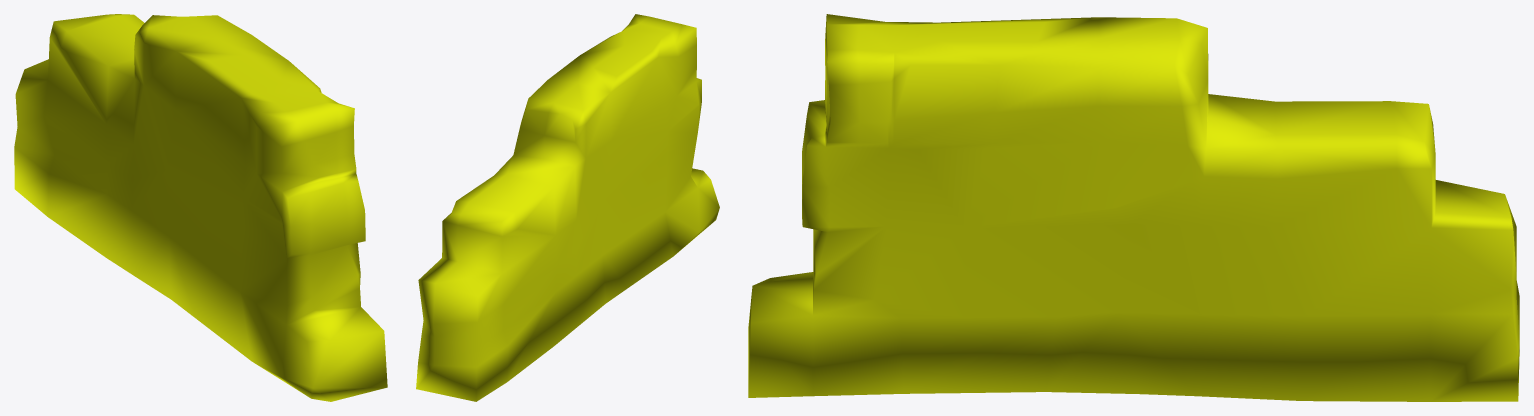
The model's file is Wall_Break_01C_Lod0.fbx.
3 views of the same model, side by side, from view 1: azimuth 30°, elevation 25°; view 2: azimuth 150°, elevation 25°; view 3: azimuth 270°, elevation 25° (orthographic). The views are drawn at different scales.
Parts seen in each view (by area): view 1: Wall_Break_01C_Lod0; view 2: Wall_Break_01C_Lod0; view 3: Wall_Break_01C_Lod0.
Boxes of the visible parts, box(x1,y1,x2,y2) form: Wall_Break_01C_Lod0: box(14, 14, 387, 401); Wall_Break_01C_Lod0: box(416, 14, 719, 401); Wall_Break_01C_Lod0: box(748, 14, 1519, 401).
Bounding box in the file's own units: 172 × 541 × 1107.
